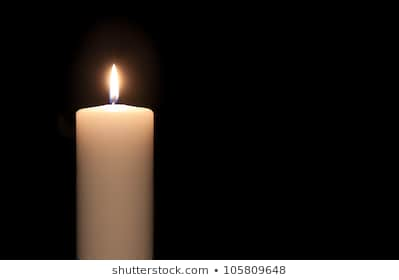Fire: (97, 60, 125, 106)
